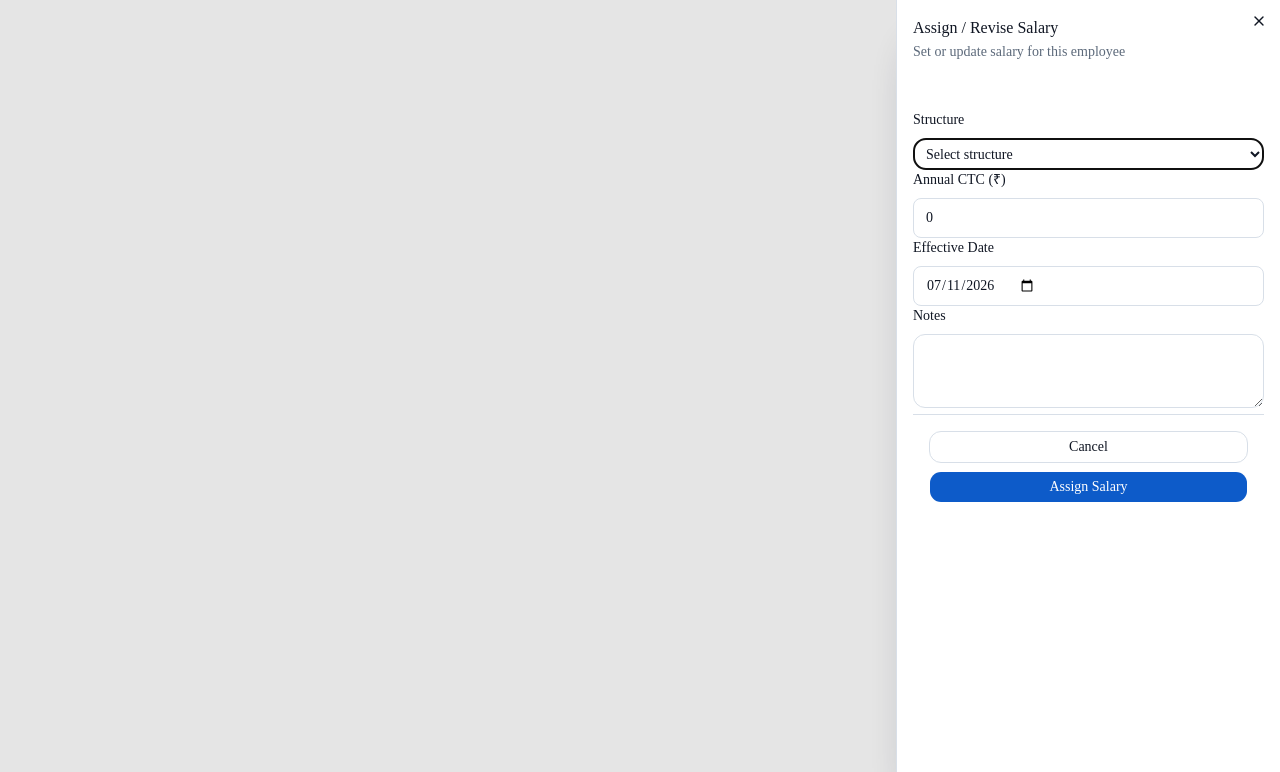
Test: SalaryRevisionDrawer — CTC input validation › shows effective date error for past dates
Select "Standard Full-Time" in the dropdown: (1088, 154) [913,138,1264,170]
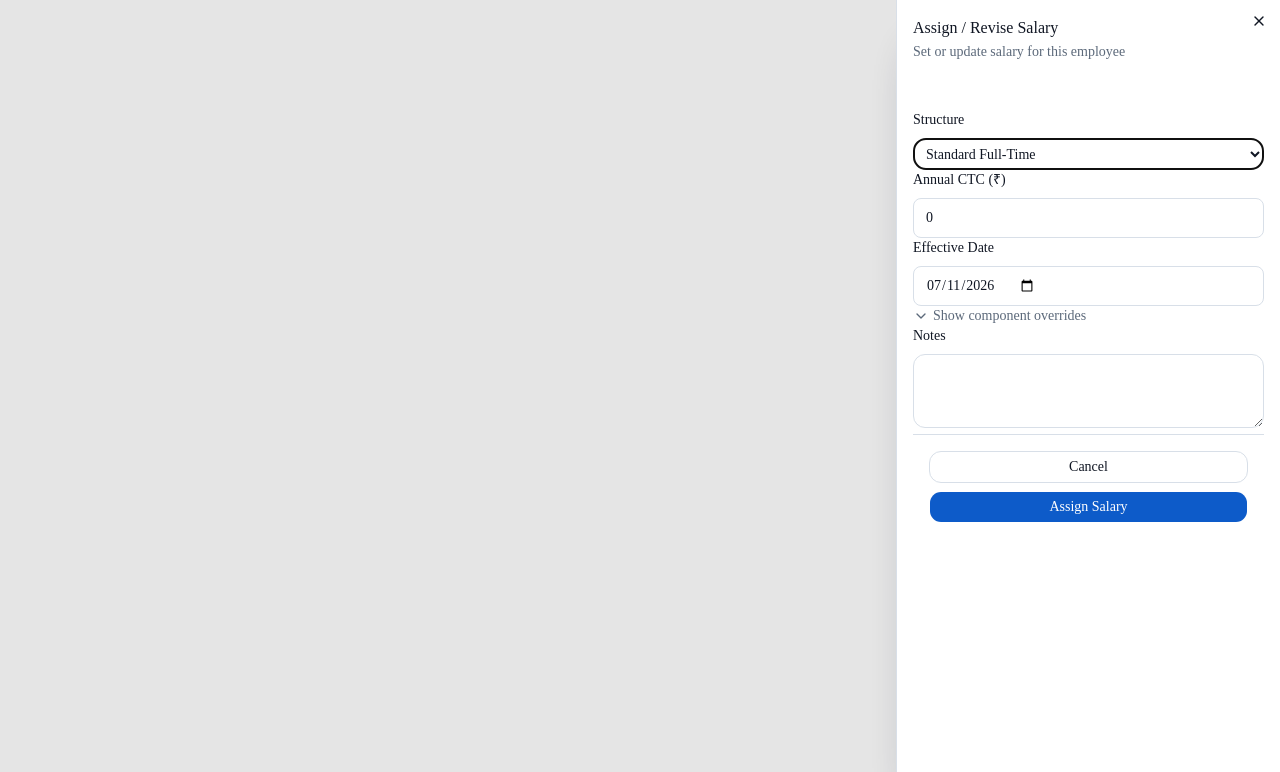
Replace the text in the number field showing "0" with "600000": (1088, 218) [913,198,1264,238]
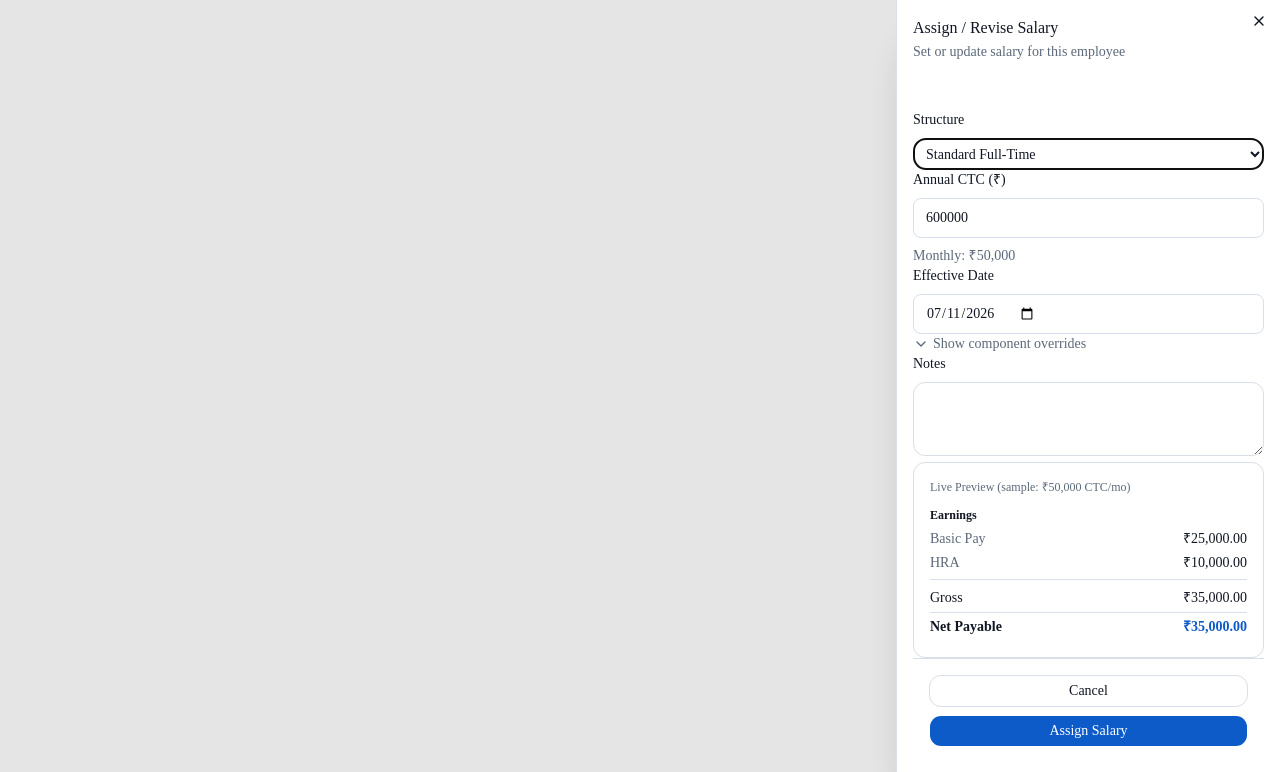
In the date field labelled "Effective Date": (1088, 314) [913,294,1264,334], type "2020-01-01"
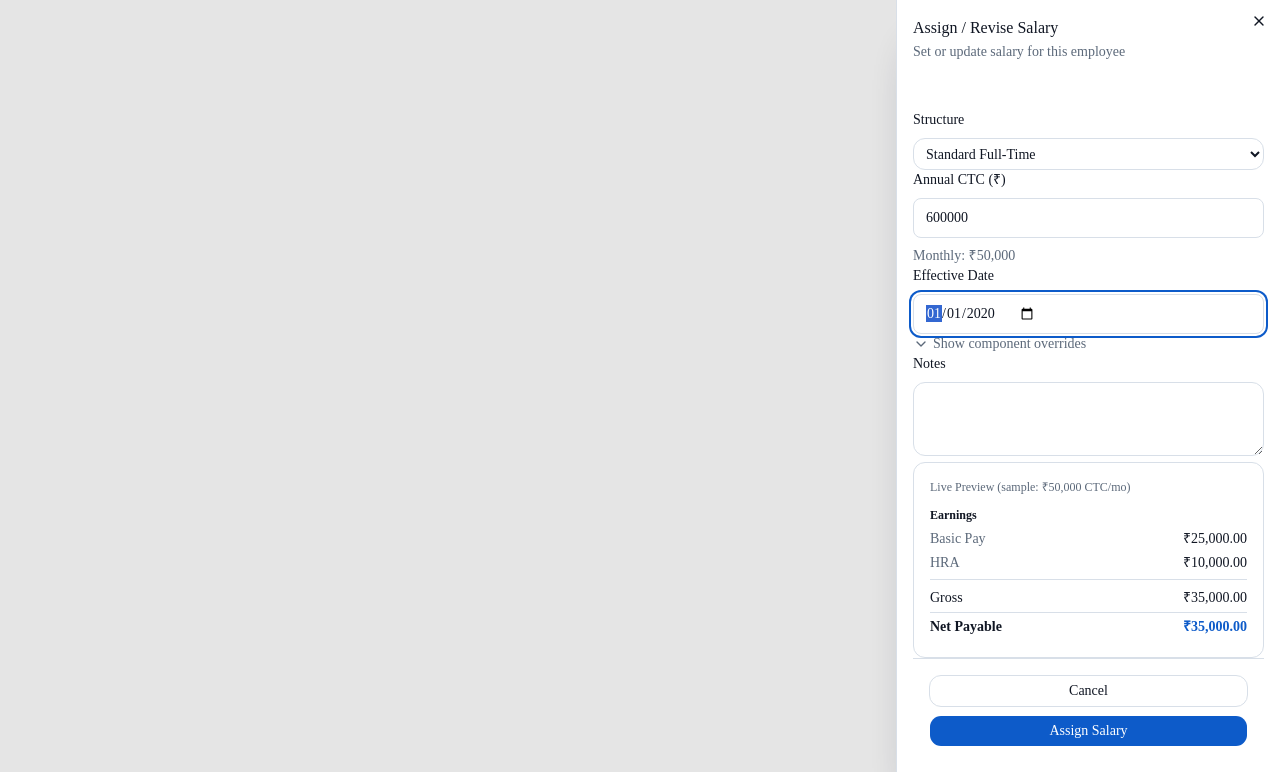
Click the button "Assign Salary": (1088, 731) [929,715,1248,747]
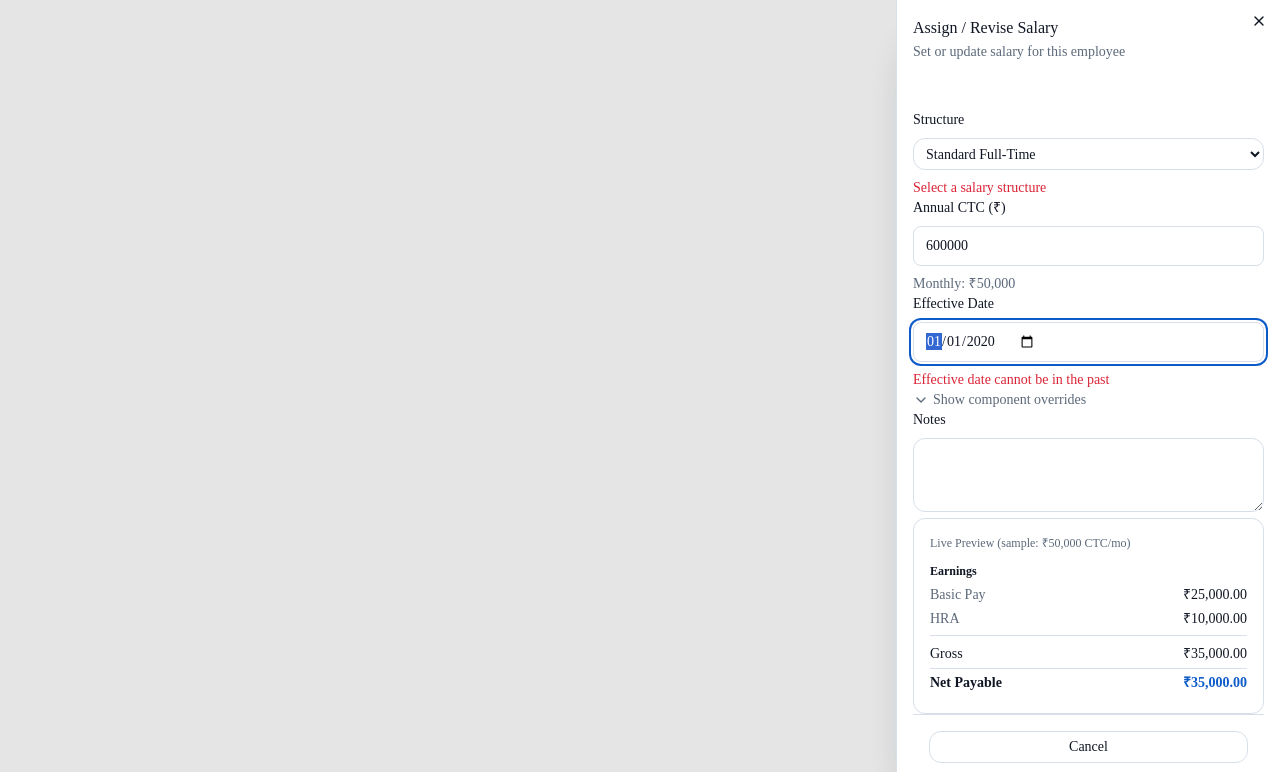
Now the text "Effective date cannot be in the past" is shown, box [913,372,1109,387]
